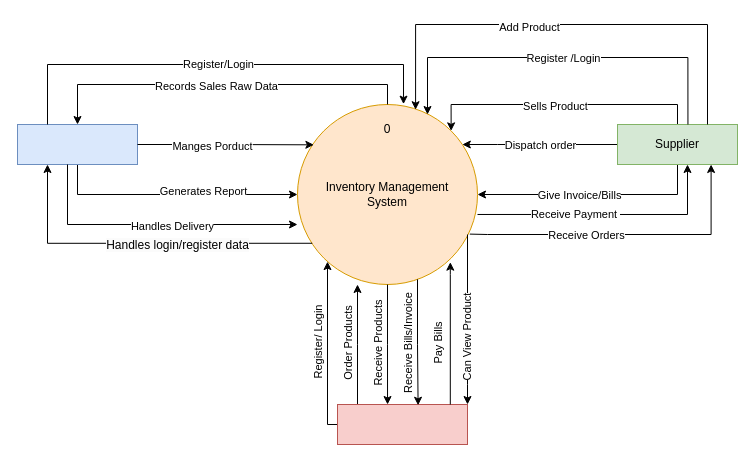
Some shapes in this 755 by 462 pixel diagram are drawn without their labels. Here are the shapes that lost their labels. From the top down, the centre of each, then its label:
(77,144): Admin
(402,424): Customer
